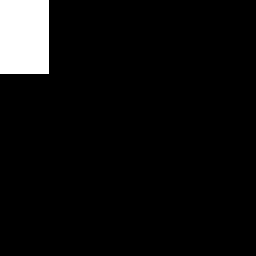rumex: (0, 0, 48, 73)
